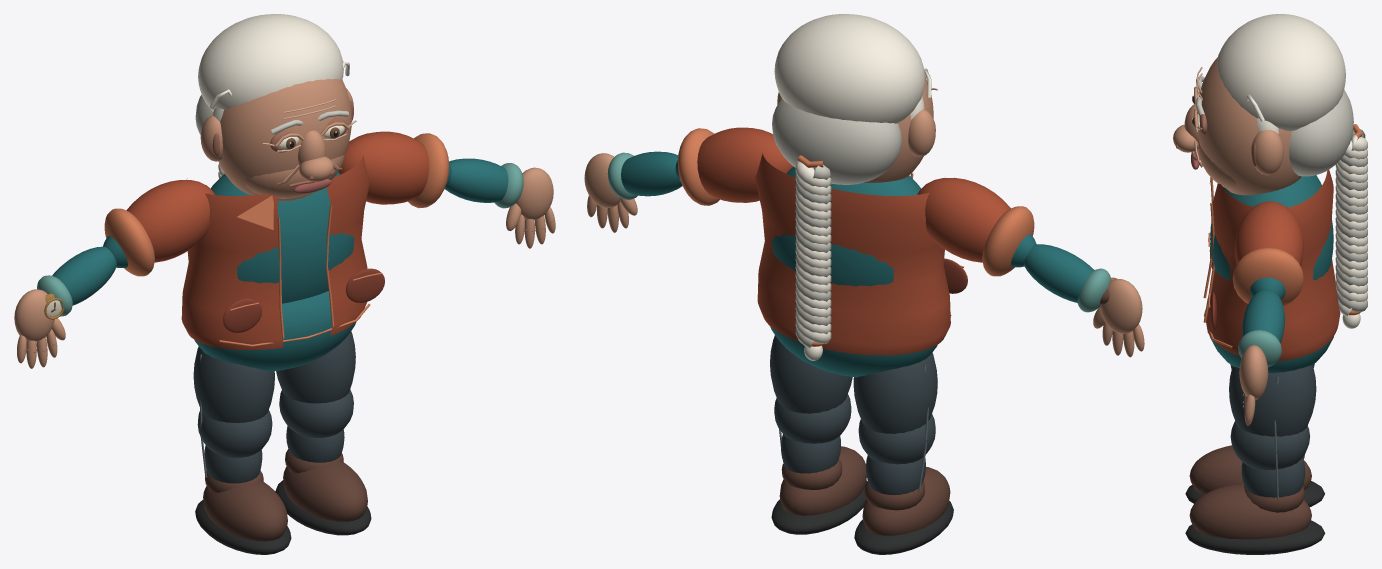
The picture shows the model from 3 angles, left to right: view 1: azimuth 30°, elevation 25°; view 2: azimuth 150°, elevation 25°; view 3: azimuth 270°, elevation 25°; orthographic projection. The views are drawn at different scales.
Parts seen in each view (by area): view 1: Woven jacket | open-front shell, Swept silver hair cap, Head | broad face, Sweater torso, Pelvis | wide and sturdy, Left woven sleeve, Right woven sleeve, Left trouser thigh, Left boot upper, Right boot upper, Right trouser thigh, Left knee shaping (+20 smaller); view 2: Woven jacket | open-front shell, Swept silver hair cap, Nape hair volume, Left woven sleeve, Left trouser thigh, Right woven sleeve, Sweater torso, Right trouser thigh, Right boot upper, Left boot upper, Left knitted forearm, Pelvis | wide and sturdy (+20 smaller); view 3: Swept silver hair cap, Woven jacket | open-front shell, Head | broad face, Right boot upper, Right trouser thigh, Nape hair volume, Right woven sleeve, Right rolled sleeve cuff, Sweater torso, Right knee shaping, Right boot sole, Braided silver strand 1 (+17 smaller).
Part boxes in pixels (box(x1,y1,x2,y2)): Woven jacket | open-front shell: box(181, 155, 369, 350); Swept silver hair cap: box(198, 14, 343, 111); Head | broad face: box(218, 79, 351, 201); Sweater torso: box(210, 171, 354, 303); Pelvis | wide and sturdy: box(194, 291, 356, 371); Left woven sleeve: box(126, 180, 214, 262); Right woven sleeve: box(338, 131, 429, 204); Left trouser thigh: box(193, 346, 274, 422); Left boot upper: box(203, 481, 287, 541); Right boot upper: box(283, 462, 367, 521); Right trouser thigh: box(276, 331, 355, 403); Left knee shaping: box(197, 410, 272, 457); Woven jacket | open-front shell: box(755, 153, 950, 355); Swept silver hair cap: box(774, 14, 925, 123); Nape hair volume: box(772, 98, 901, 184); Left woven sleeve: box(917, 177, 1010, 262); Left trouser thigh: box(853, 352, 937, 433); Right woven sleeve: box(697, 127, 793, 202); Sweater torso: box(772, 166, 921, 286); Right trouser thigh: box(770, 335, 852, 413); Right boot upper: box(779, 446, 866, 515); Left boot upper: box(862, 467, 950, 535); Left knitted forearm: box(1024, 244, 1094, 302); Pelvis | wide and sturdy: box(770, 326, 937, 377); Swept silver hair cap: box(1217, 14, 1345, 130); Woven jacket | open-front shell: box(1206, 169, 1340, 360); Head | broad face: box(1198, 57, 1301, 195); Right boot upper: box(1189, 483, 1311, 539); Right trouser thigh: box(1229, 365, 1316, 436); Nape hair volume: box(1289, 89, 1353, 176); Right woven sleeve: box(1234, 201, 1303, 266); Right rolled sleeve cuff: box(1232, 247, 1303, 306); Sweater torso: box(1210, 175, 1333, 280); Right knee shaping: box(1230, 421, 1310, 469); Right boot sole: box(1185, 520, 1325, 554); Braided silver strand 1: box(1335, 135, 1367, 316).
Size of the model in its own units: 2.08 by 1.85 by 0.6466.
